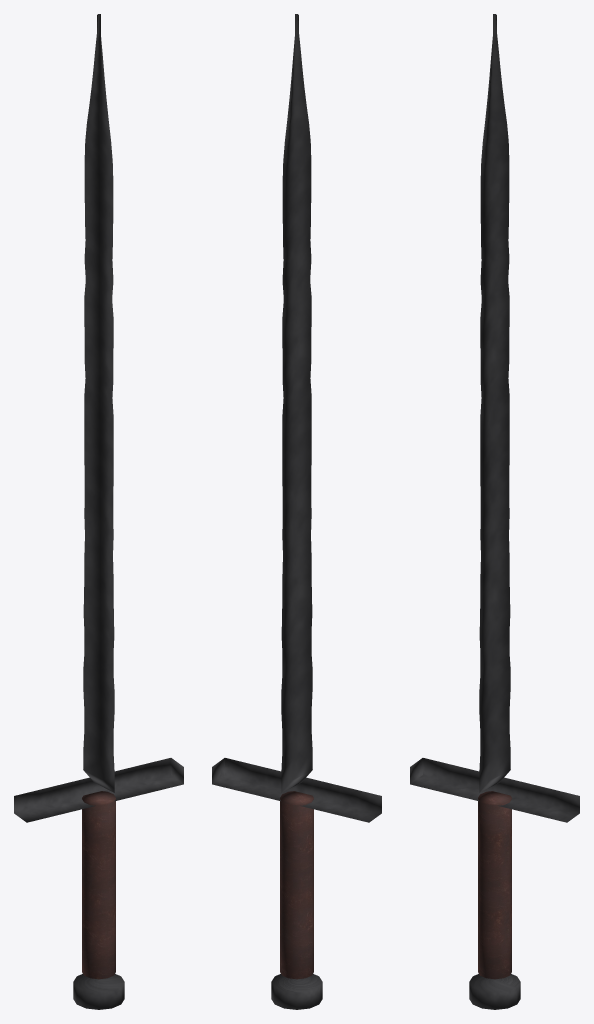
File: it_sword_crude.glb
3 renders of one model, left to right at view 1: azimuth 30°, elevation 25°; view 2: azimuth 150°, elevation 25°; view 3: azimuth 330°, elevation 25°, orthographic.
Visible parts, largest first — view 1: it_sword_crude_lod0; view 2: it_sword_crude_lod0; view 3: it_sword_crude_lod0.
Part boxes in pixels (x1,y1,x2,y2): it_sword_crude_lod0: (14, 14, 183, 1009); it_sword_crude_lod0: (212, 14, 381, 1009); it_sword_crude_lod0: (410, 14, 579, 1009).
Size of what is drawn, in the model's own units: 0.17 by 1.02 by 0.0593.
2 materials, 2 textured.
